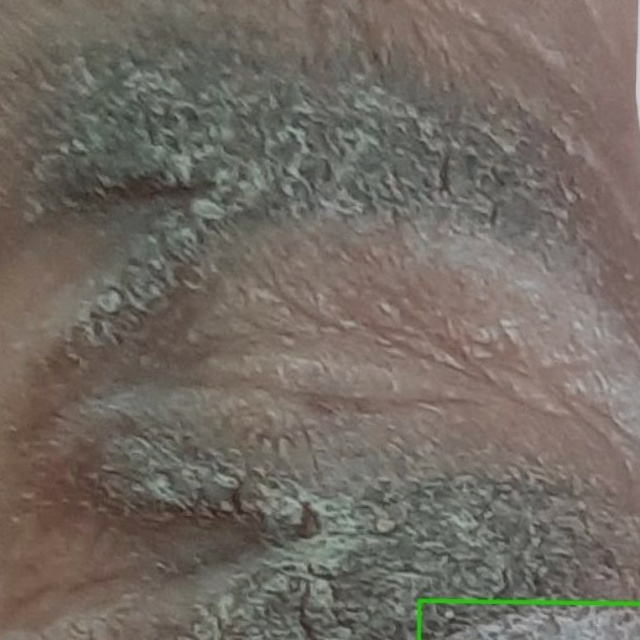Contact Dermatitis: (419, 600, 639, 639)
